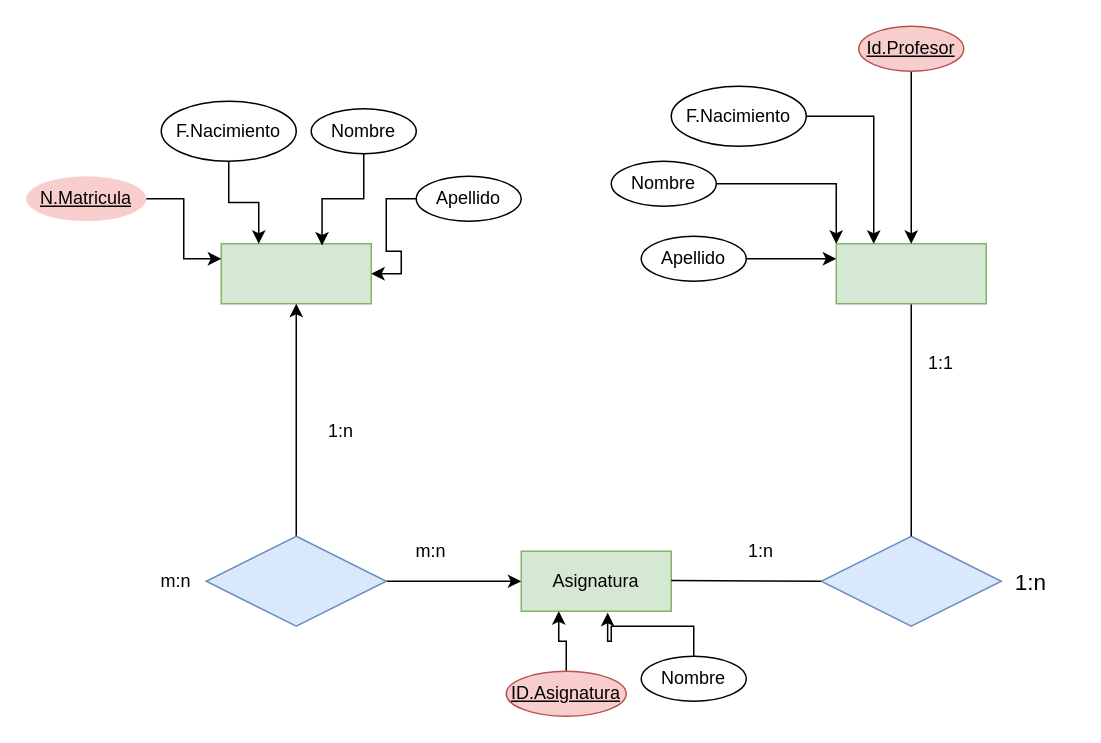
This 1101x743 diagram has some shape labels left out. Each missing label, with the centre of its shape:
Alumno: (x=295, y=273)
Cursa: (x=295, y=580)
Imparte: (x=910, y=580)
Profesor: (x=910, y=273)
